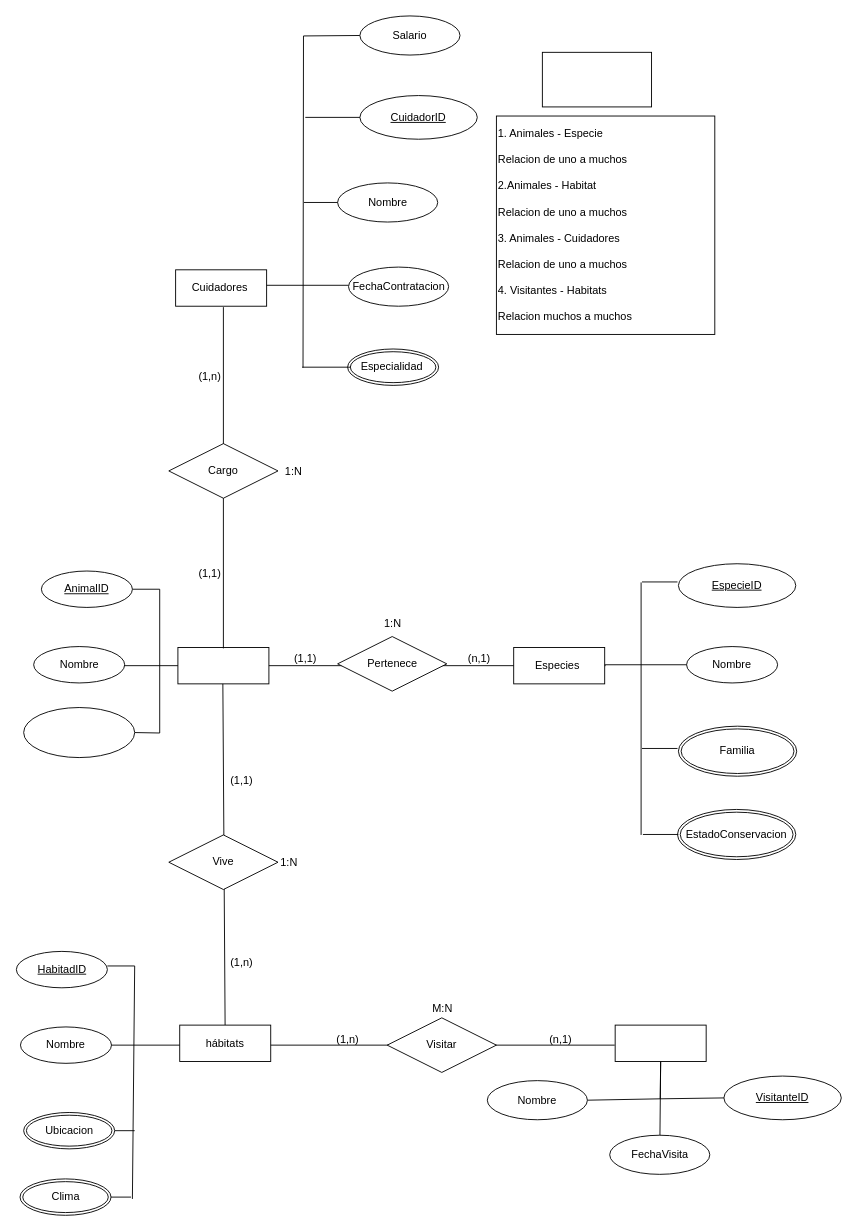
Some shapes in this 857 by 1231 pixel diagram are drawn without their labels. The centre of each missing label's shape, as x and y in pixels:
"Animal" belongs at pixel 223 665.
"FechaNacimiento" belongs at pixel 79 732.
"Relaciones" belongs at pixel 596 79.
"Visitantes" belongs at pixel 660 1043.
